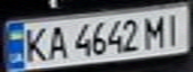2: (121, 16, 145, 53)
4: (106, 16, 127, 55), (72, 20, 93, 58)
6: (90, 18, 112, 56)
A: (42, 22, 69, 61)
I: (160, 9, 190, 46)
K: (18, 24, 51, 63)
M: (139, 12, 172, 48)
